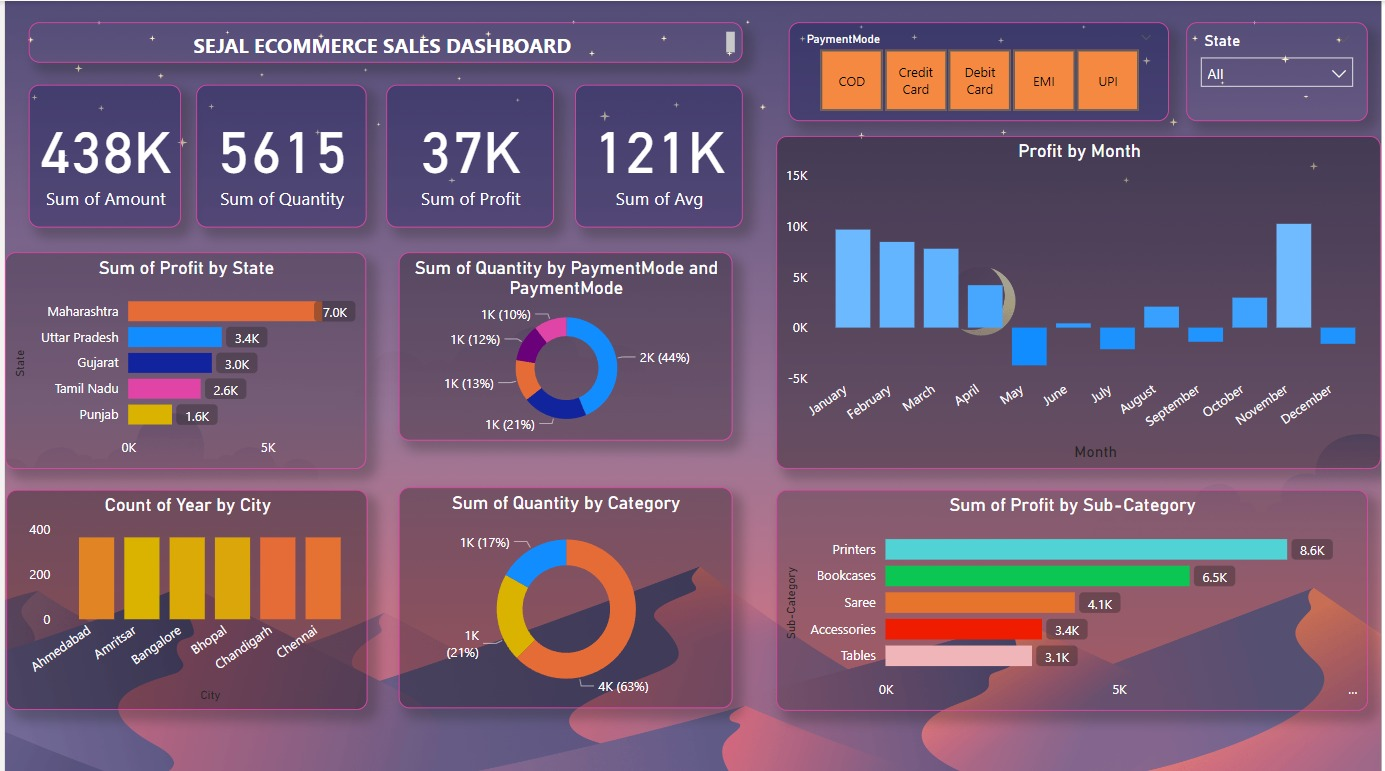

Layout of this report page (visuals, bound fields, positions):
{"tool":"powerbi","page":{"name":"Page 1","canvas":[1280,720],"ordinal":0},"visuals":[{"type":"textbox","box":[22.1,19.8,664,37.2],"z":0},{"type":"columnChart","title":"Profit by Month","fields":{"Y":["Details.Profit"],"Category":["Orders.Order Date.Variation.Date Hierarchy.Month"]},"box":[717.4,125.6,562.8,309.3],"z":1000},{"type":"barChart","fields":{"Category":["Details.Sub-Category"],"Y":["Details.Profit"]},"box":[717.4,454.7,550,205.8],"z":2000},{"type":"donutChart","fields":{"Category":["Details.Category"],"Y":["Details.Quantity"]},"box":[366.4,452.8,310.1,205.8],"z":3000},{"type":"donutChart","fields":{"Y":["Details.Quantity"],"Series":["Details.PaymentMode"],"Category":["Details.PaymentMode"]},"box":[366.3,233.7,310.5,175.6],"z":4000},{"type":"card","fields":{"Values":["Details.Amount"]},"box":[22.1,77.9,141.9,132.6],"z":5000},{"type":"card","fields":{"Values":["Details.Avg"]},"box":[530.2,77.9,155.8,132.6],"z":6000},{"type":"card","fields":{"Values":["Details.Quantity"]},"box":[177.9,77.9,158.1,132.6],"z":7000},{"type":"card","fields":{"Values":["Details.Profit"]},"box":[354.7,77.9,155.8,132.6],"z":8000},{"type":"barChart","fields":{"Category":["Orders.State"],"Y":["Details.Profit"]},"box":[0,233.3,336.2,201.7],"z":9000},{"type":"columnChart","fields":{"Category":["Orders.City"],"Y":["Orders.Order Date.Variation.Date Hierarchy.Year"]},"box":[1.4,454.2,336.2,204.5],"z":10000},{"type":"slicer","fields":{"Values":["Orders.State"]},"box":[1098.8,19.8,168.6,91.9],"z":11000},{"type":"slicer","fields":{"Values":["Details.PaymentMode"]},"box":[729.1,19.8,353.5,91.9],"z":12000}]}

Visuals, with their boxes in screenshot pixels (x1, y1, x2, y2), scaled from the page's 1280x720 canvas onto the 1385x771 screenshot:
textbox: bbox=[24, 21, 742, 61]
"Profit by Month" columnChart: bbox=[776, 134, 1384, 466]
barChart - Details.Sub-Category x Details.Profit: bbox=[776, 487, 1371, 707]
donutChart - Details.Category x Details.Quantity: bbox=[396, 485, 732, 705]
donutChart - Details.Quantity x Details.PaymentMode: bbox=[396, 250, 732, 438]
card - Details.Amount: bbox=[24, 83, 177, 225]
card - Details.Avg: bbox=[574, 83, 742, 225]
card - Details.Quantity: bbox=[192, 83, 364, 225]
card - Details.Profit: bbox=[384, 83, 552, 225]
barChart - Orders.State x Details.Profit: bbox=[0, 250, 364, 466]
columnChart - Orders.City x Orders.Order Date.Variation.Date Hierarchy.Year: bbox=[2, 486, 365, 705]
slicer - Orders.State: bbox=[1189, 21, 1371, 120]
slicer - Details.PaymentMode: bbox=[789, 21, 1171, 120]
